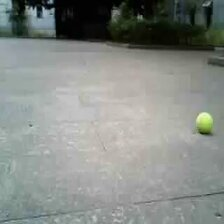tennis: (195, 112, 213, 133)
